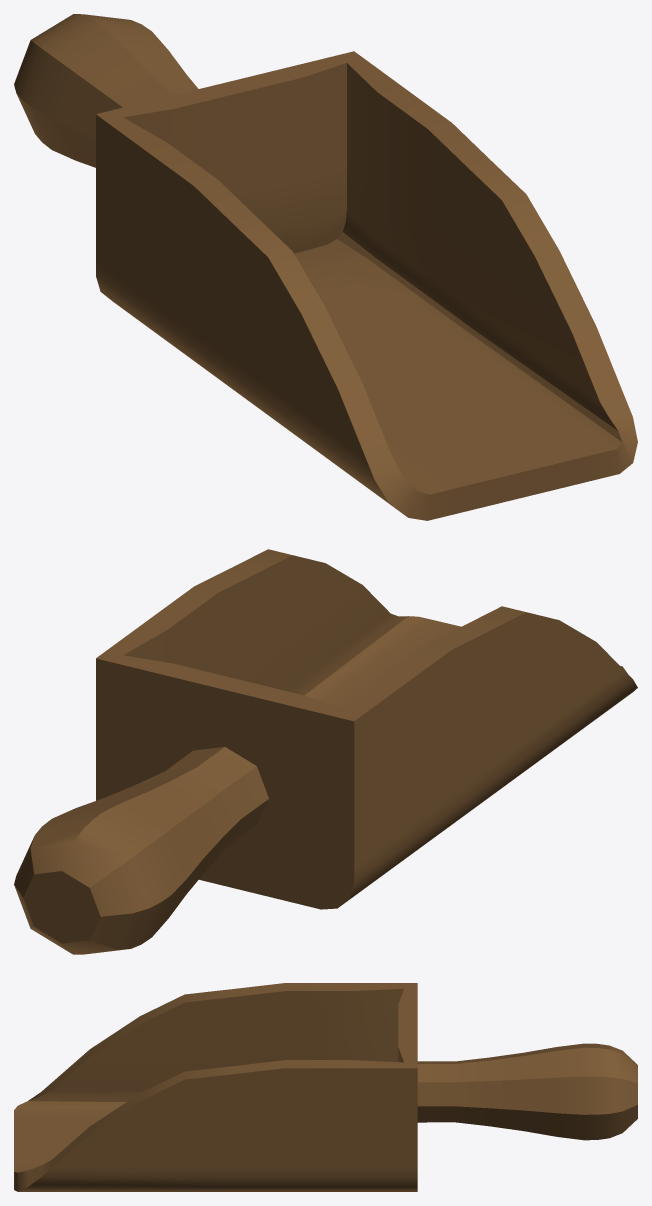
The model's file is sovok.fbx.
3 views of the same model, one above another, from view 1: azimuth 30°, elevation 25°; view 2: azimuth 150°, elevation 25°; view 3: azimuth 270°, elevation 25° (orthographic). The views are drawn at different scales.
Visible parts, largest first — view 1: Cube; view 2: Cube; view 3: Cube.
Part boxes in pixels (x1=…): Cube: x1=14, y1=14, x2=637, y2=520; Cube: x1=14, y1=549, x2=637, y2=954; Cube: x1=14, y1=983, x2=637, y2=1191.
Bounding box in the file's own units: 2 × 1.45 × 6.19.
